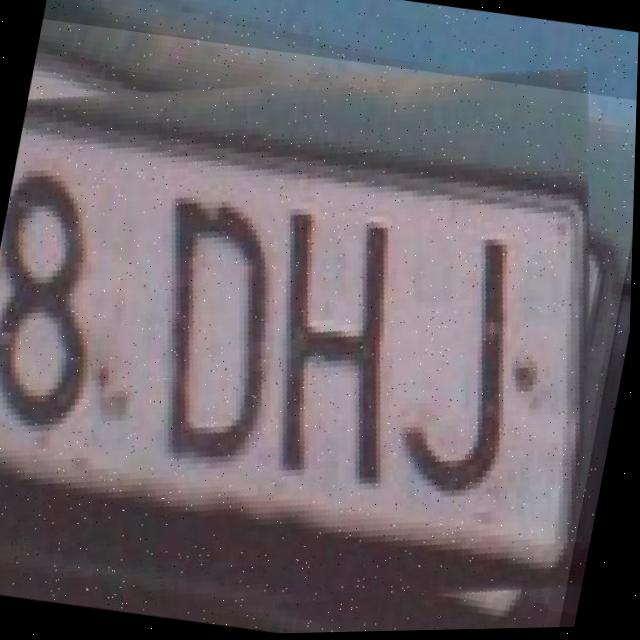LicensePlate: (0, 9, 640, 640)
